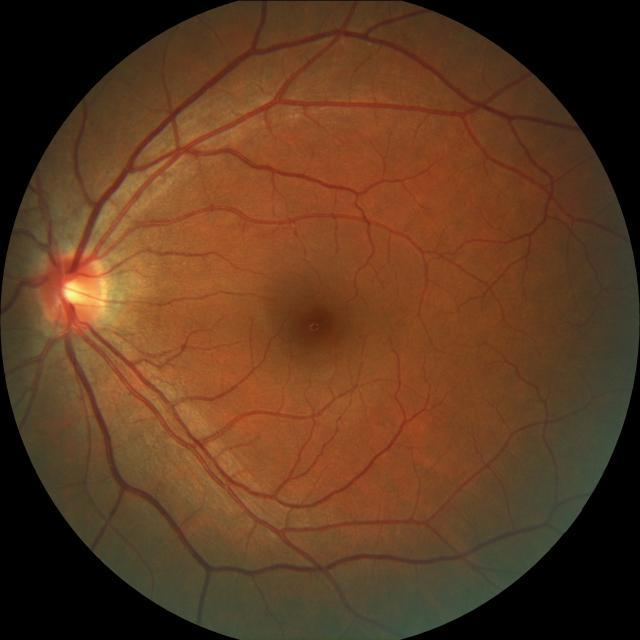OC: (61, 281, 85, 305)
OD: (36, 247, 106, 329)
